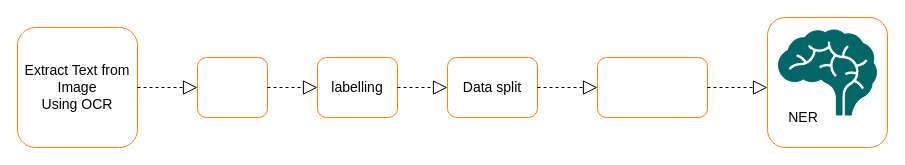
This 905x165 diagram has some shape labels left out. Here are the shapes that lost their labels. From the top down, the centre of each, then its label:
the point at 232,87: text
the point at 652,87: text cleaning
